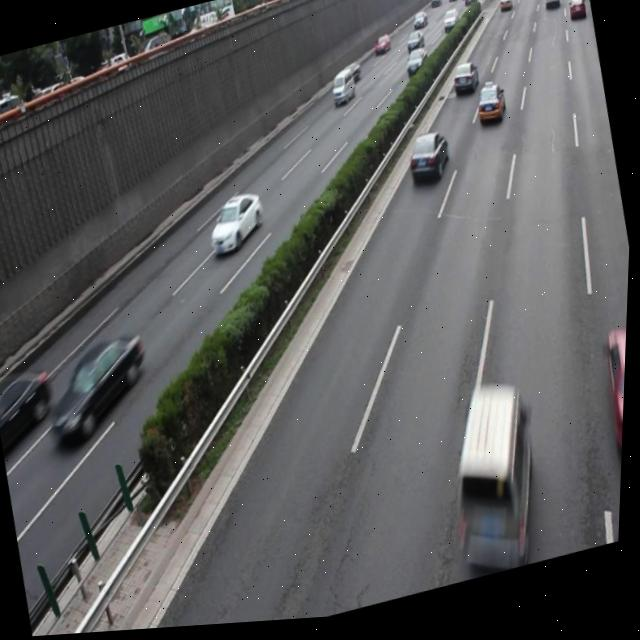car: (40, 328, 159, 451), (0, 360, 63, 452), (203, 189, 272, 261), (597, 334, 629, 489), (404, 132, 454, 191), (472, 87, 510, 135)
truck: (435, 385, 555, 572)
